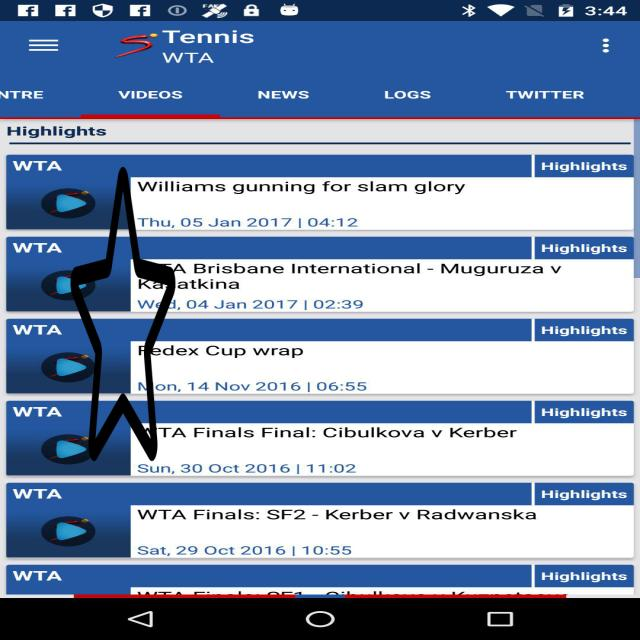forced continuity: (70, 160, 176, 468)
